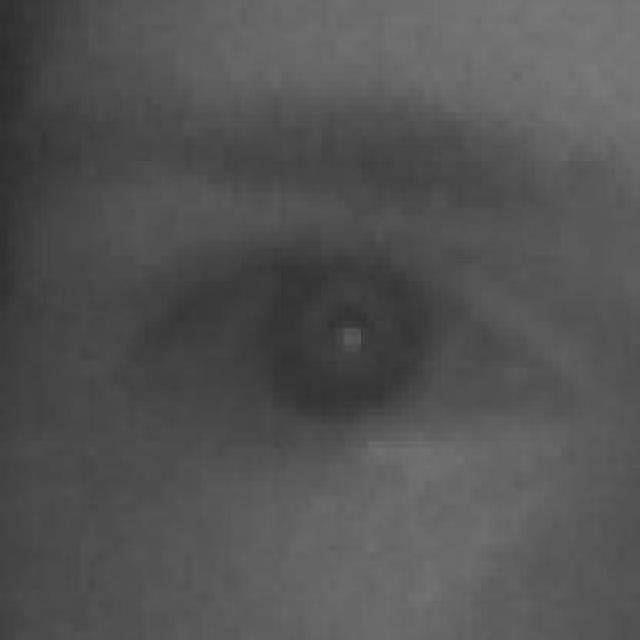awake: (111, 230, 551, 442)
